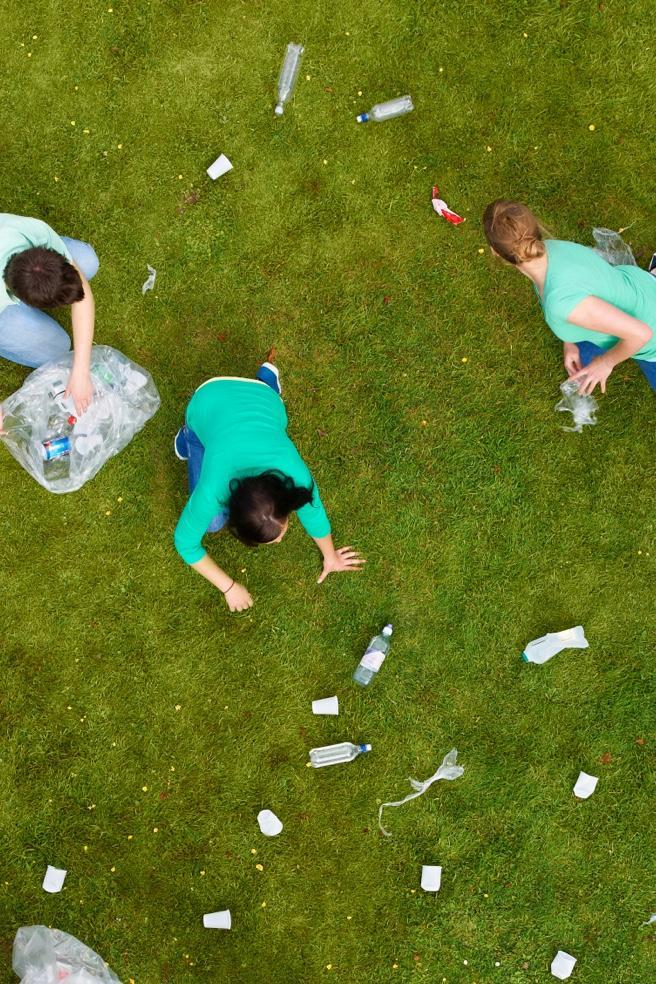bottle: (22, 384, 95, 497), (296, 722, 385, 795), (340, 74, 434, 143), (339, 604, 403, 693), (511, 612, 597, 678), (242, 18, 293, 121)
